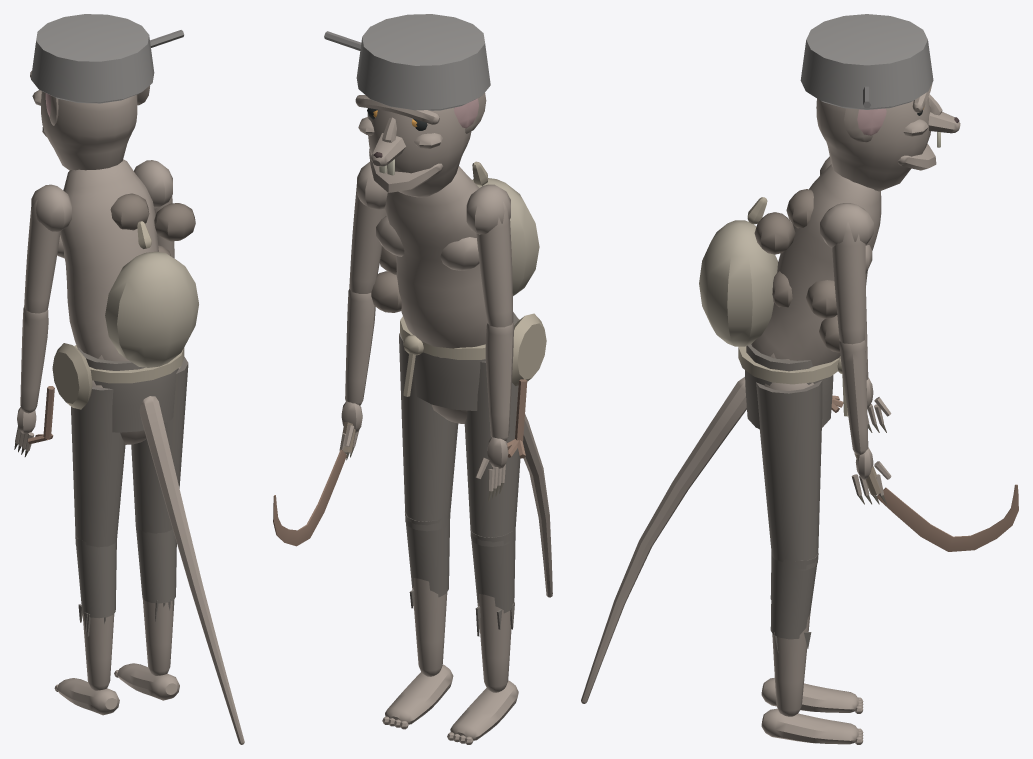
The model's file is en_rope_cutter.gltf.
3 views of the same model, side by side, from view 1: azimuth 30°, elevation 25°; view 2: azimuth 150°, elevation 25°; view 3: azimuth 270°, elevation 25° (orthographic). The views are drawn at different scales.
Visible parts, largest first — view 1: Spine, V3_Pot, V1_Sack, LegL, ShinL, ShinR, Head, Tail, Hips, LegR, ForeL, ArmL (+1 smaller); view 2: Spine, V3_Pot, Head, ShinL, ShinR, LegR, LegL, Hips, ForeR, ForeL, ArmL, V1_Sack (+4 smaller); view 3: Spine, V3_Pot, LegR, Head, ShinR, V1_Sack, ForeR, Tail, Hips, ArmR, ShinL, ForeL.
Boxes of the visible parts, x1=… form: Spine: x1=31, y1=159, x2=195, y2=361; V3_Pot: x1=31, y1=14, x2=184, y2=103; V1_Sack: x1=105, y1=221, x2=198, y2=367; LegL: x1=71, y1=380, x2=125, y2=548; ShinL: x1=54, y1=535, x2=119, y2=715; ShinR: x1=114, y1=521, x2=179, y2=700; Head: x1=30, y1=71, x2=149, y2=170; Tail: x1=139, y1=396, x2=244, y2=744; Hips: x1=74, y1=345, x2=184, y2=444; LegR: x1=131, y1=357, x2=188, y2=534; ForeL: x1=14, y1=307, x2=48, y2=456; ArmL: x1=24, y1=200, x2=60, y2=313; Spine: x1=357, y1=162, x2=510, y2=357; V3_Pot: x1=324, y1=14, x2=490, y2=110; Head: x1=355, y1=93, x2=486, y2=197; ShinL: x1=447, y1=527, x2=518, y2=744; ShinR: x1=382, y1=512, x2=453, y2=729; LegR: x1=399, y1=332, x2=458, y2=531; LegL: x1=464, y1=361, x2=520, y2=546; Hips: x1=400, y1=312, x2=519, y2=423; ForeR: x1=273, y1=289, x2=375, y2=546; ForeL: x1=475, y1=322, x2=513, y2=501; ArmL: x1=476, y1=201, x2=513, y2=327; V1_Sack: x1=472, y1=161, x2=539, y2=295; Spine: x1=751, y1=156, x2=881, y2=366; V3_Pot: x1=800, y1=14, x2=933, y2=109; LegR: x1=756, y1=381, x2=822, y2=571; Head: x1=816, y1=83, x2=960, y2=191; ShinR: x1=761, y1=553, x2=863, y2=744; V1_Sack: x1=699, y1=197, x2=777, y2=346; ForeR: x1=839, y1=338, x2=1018, y2=551; Tail: x1=581, y1=377, x2=746, y2=703; Hips: x1=738, y1=344, x2=848, y2=429; ArmR: x1=832, y1=222, x2=865, y2=344; ShinL: x1=761, y1=552, x2=863, y2=713; ForeL: x1=865, y1=288, x2=891, y2=432.
Bounding box in the file's own units: 0.5094 × 1.86 × 1.07.
